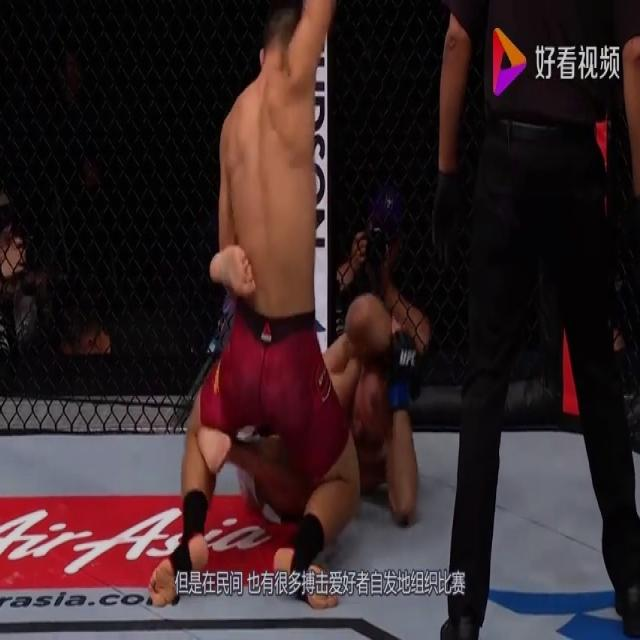fight: (168, 0, 427, 636)
